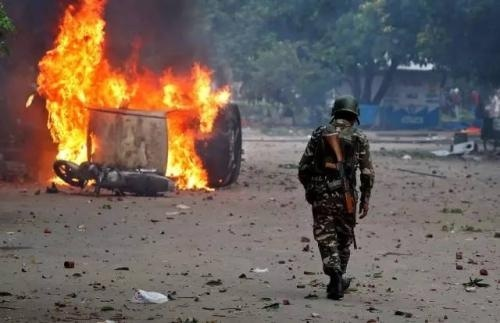fire: (36, 0, 125, 183), (158, 57, 232, 188)
